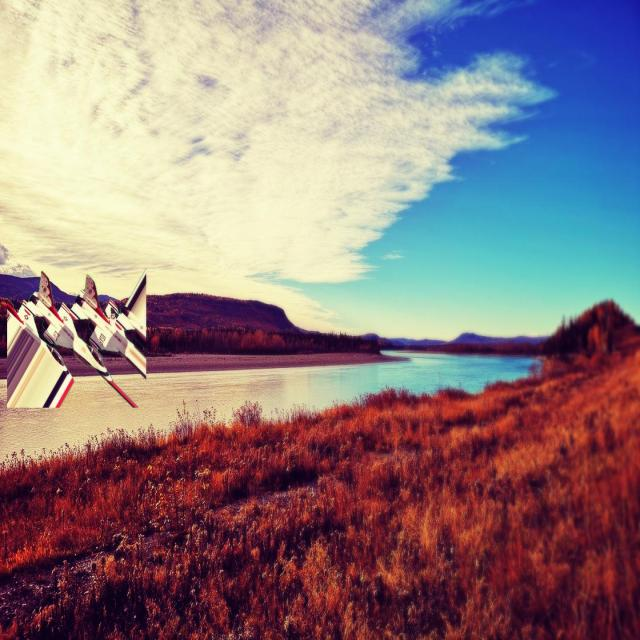airplane: (3, 269, 148, 410)
